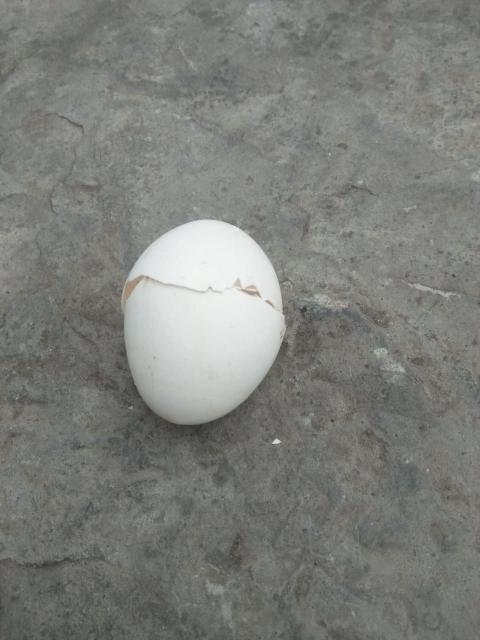Roto: (120, 218, 286, 426)
